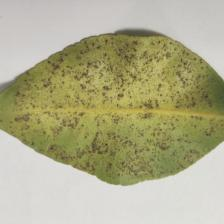canker: (64, 56, 188, 162)
